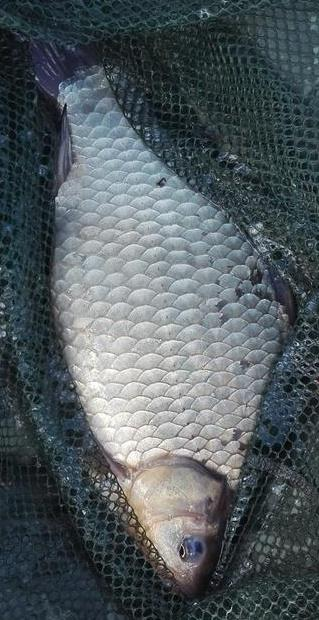Silver Barb: (9, 42, 291, 593)
